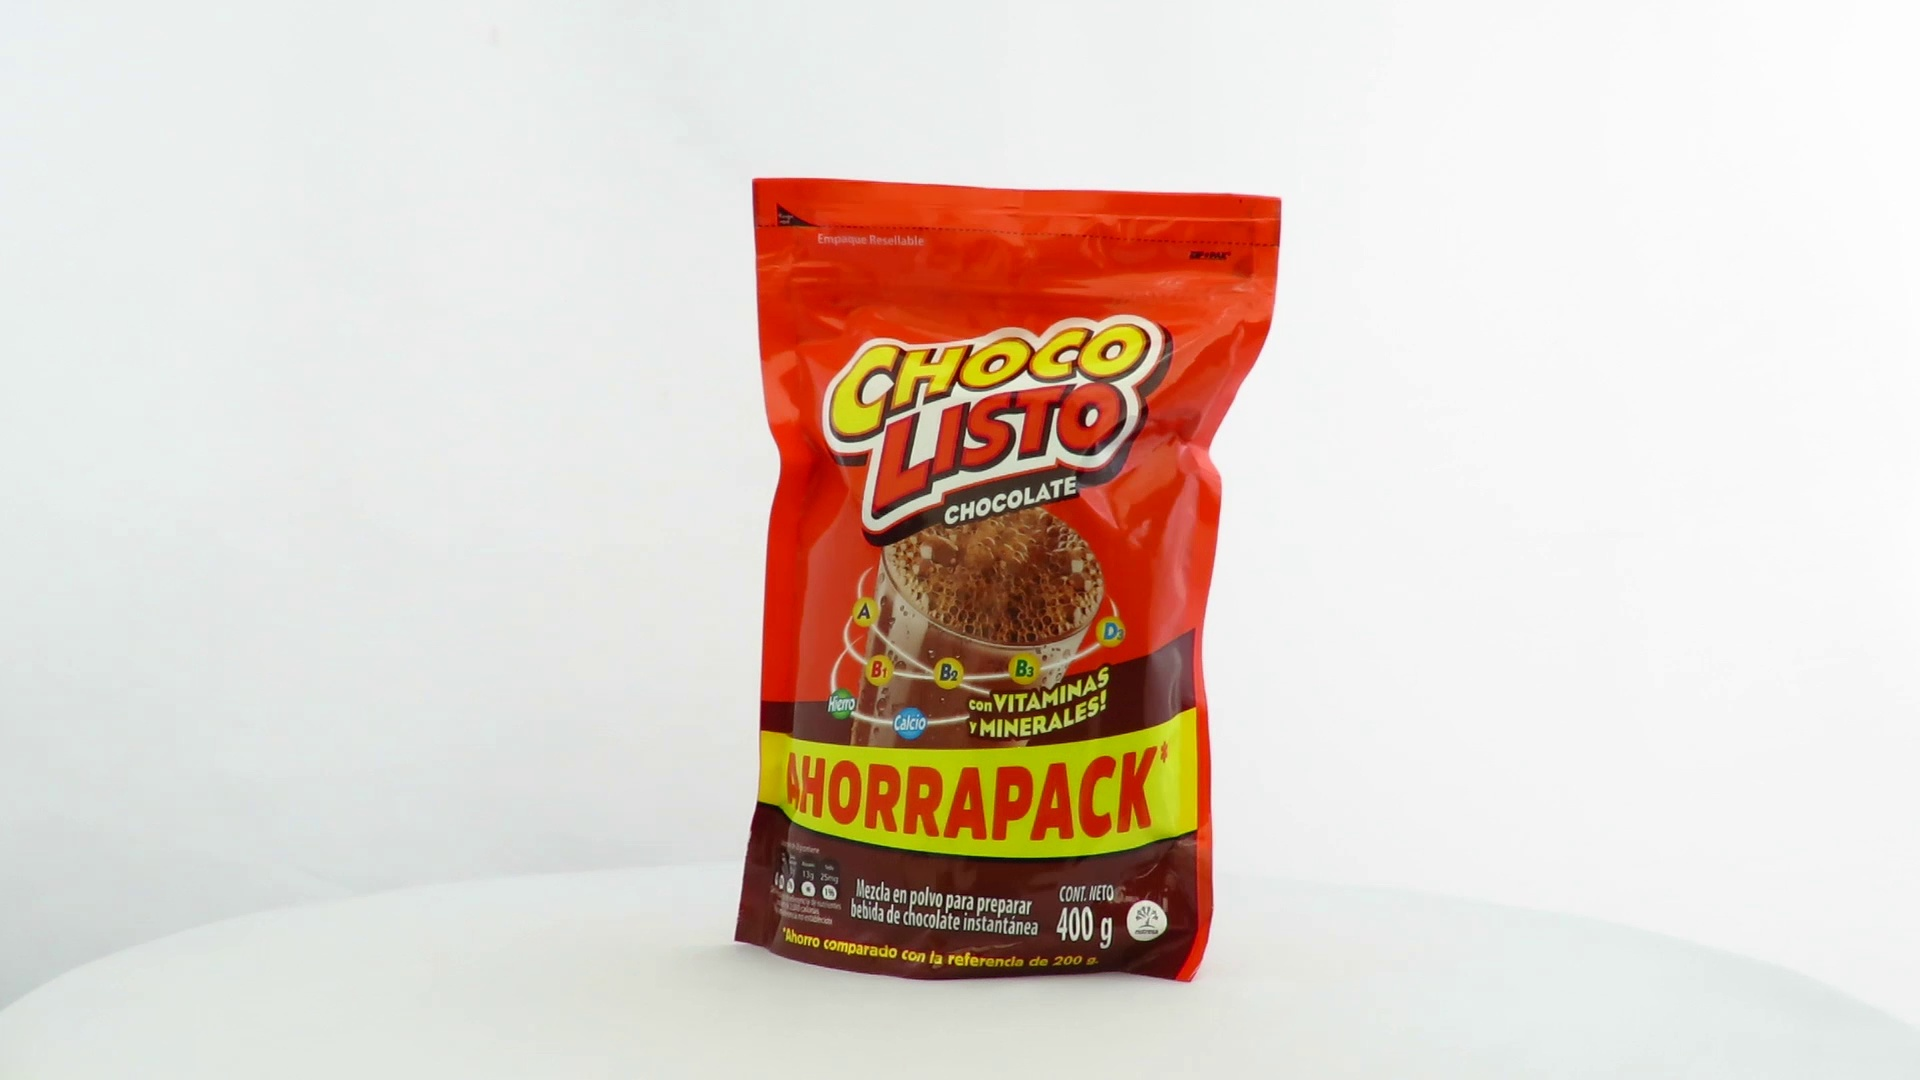COL0170103DYP40000: (729, 171, 1288, 989)
